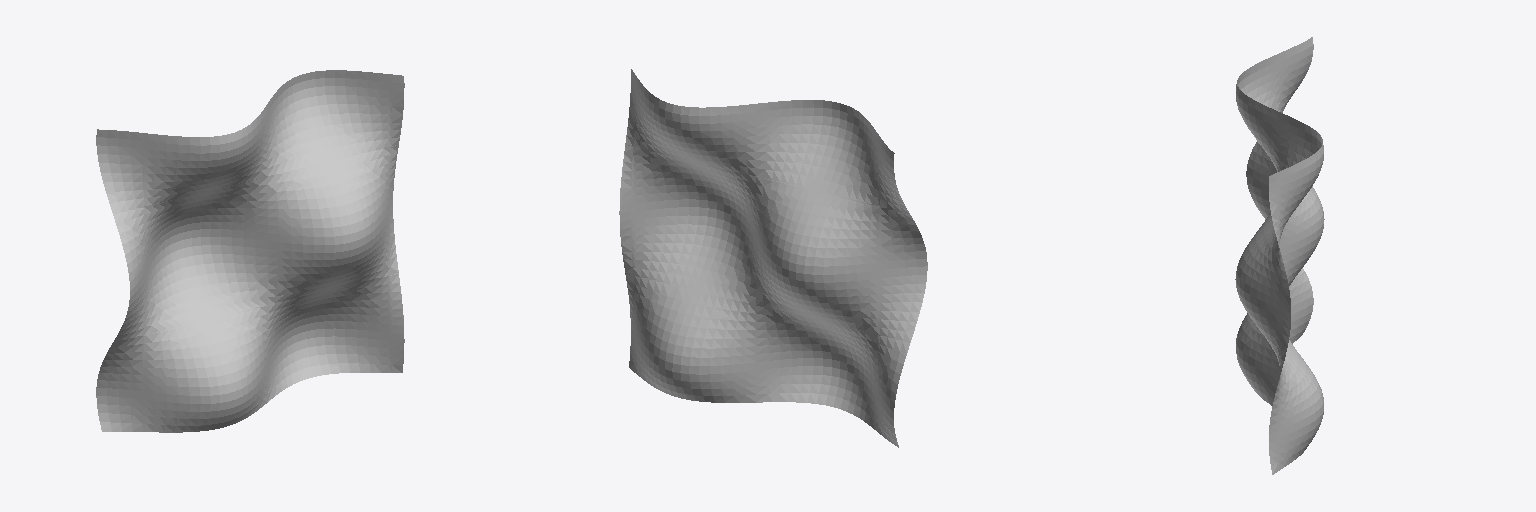
The model's file is egg.obj.
3 renders of one model, left to right at view 1: azimuth 30°, elevation 25°; view 2: azimuth 150°, elevation 25°; view 3: azimuth 270°, elevation 25°, orthographic.
Size of the model in its own units: 7.4 by 7.4 by 2.